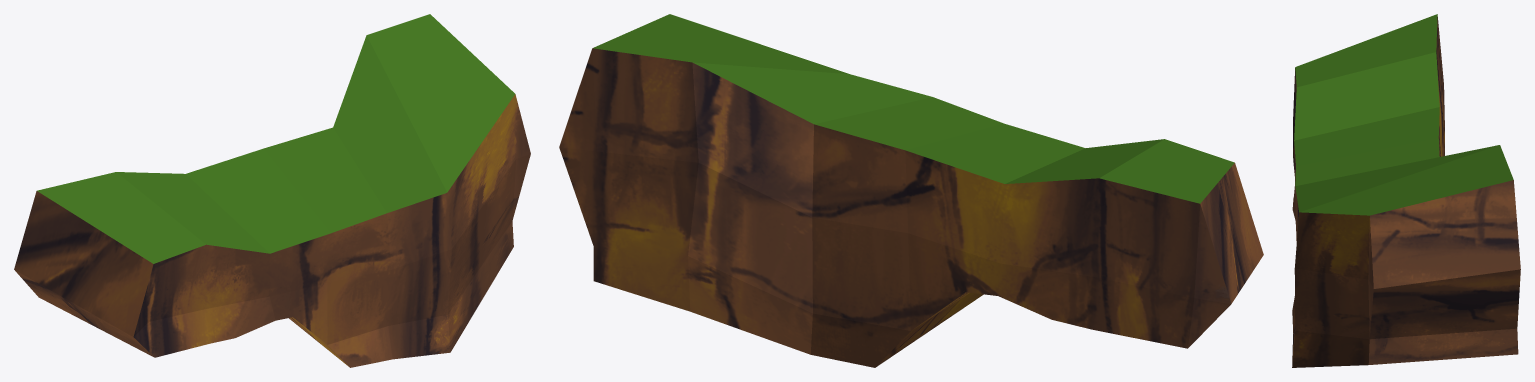
File: sali104.obj
3 views of the same model, side by side, from view 1: azimuth 30°, elevation 25°; view 2: azimuth 150°, elevation 25°; view 3: azimuth 270°, elevation 25° (orthographic). The views are drawn at different scales.
Visible parts, largest first — view 1: Plane.059_Plane.065; view 2: Plane.059_Plane.065; view 3: Plane.059_Plane.065.
Boxes of the visible parts, <box> form: Plane.059_Plane.065: <box>14,14,530,367</box>; Plane.059_Plane.065: <box>559,14,1263,367</box>; Plane.059_Plane.065: <box>1292,14,1520,367</box>.
Size of the model in its own units: 144 by 66.57 by 59.15.
1 material, 1 textured.
